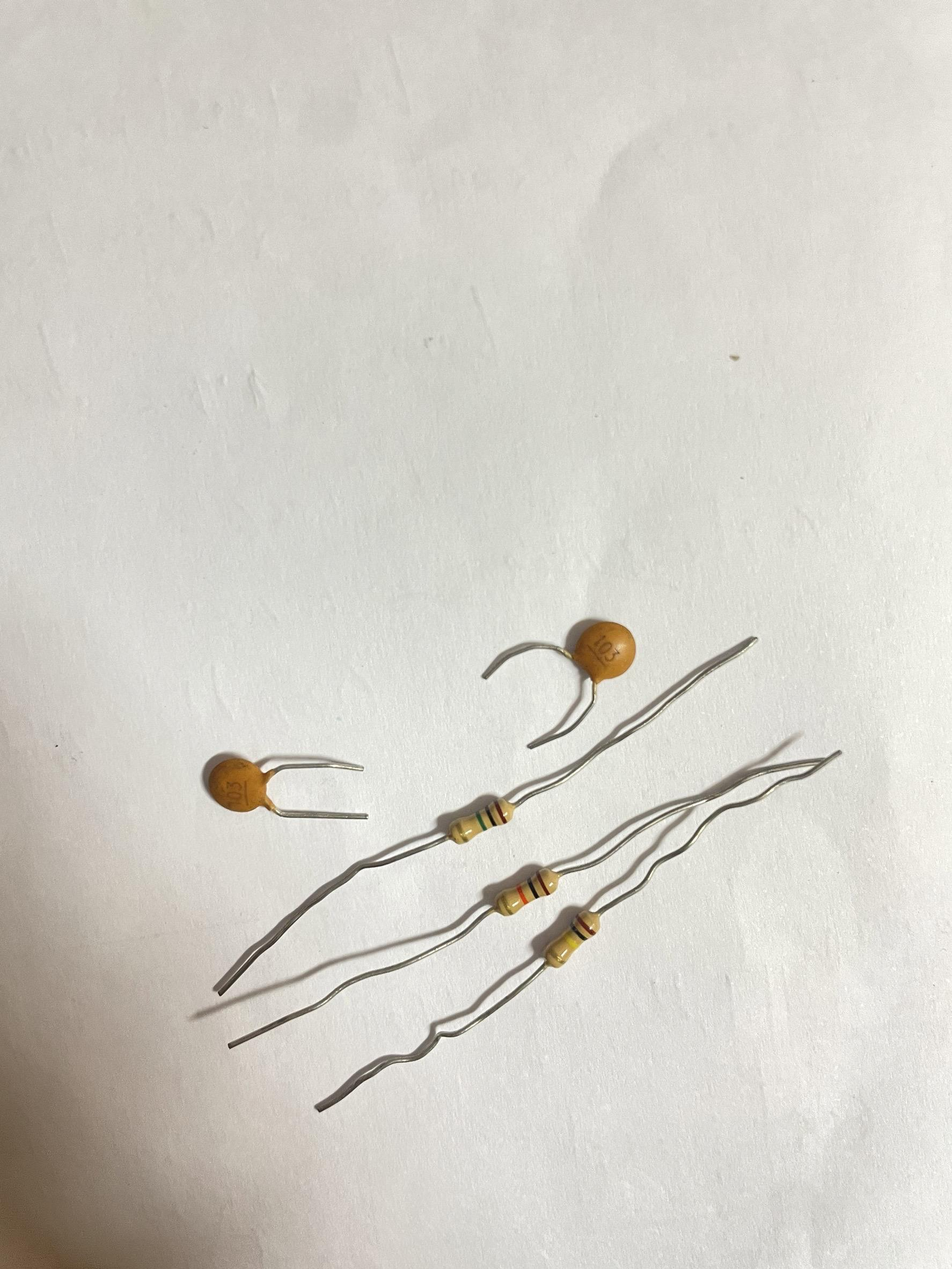resistor: (538, 905, 604, 973), (444, 799, 515, 845), (496, 867, 561, 916), (561, 912, 562, 916)
